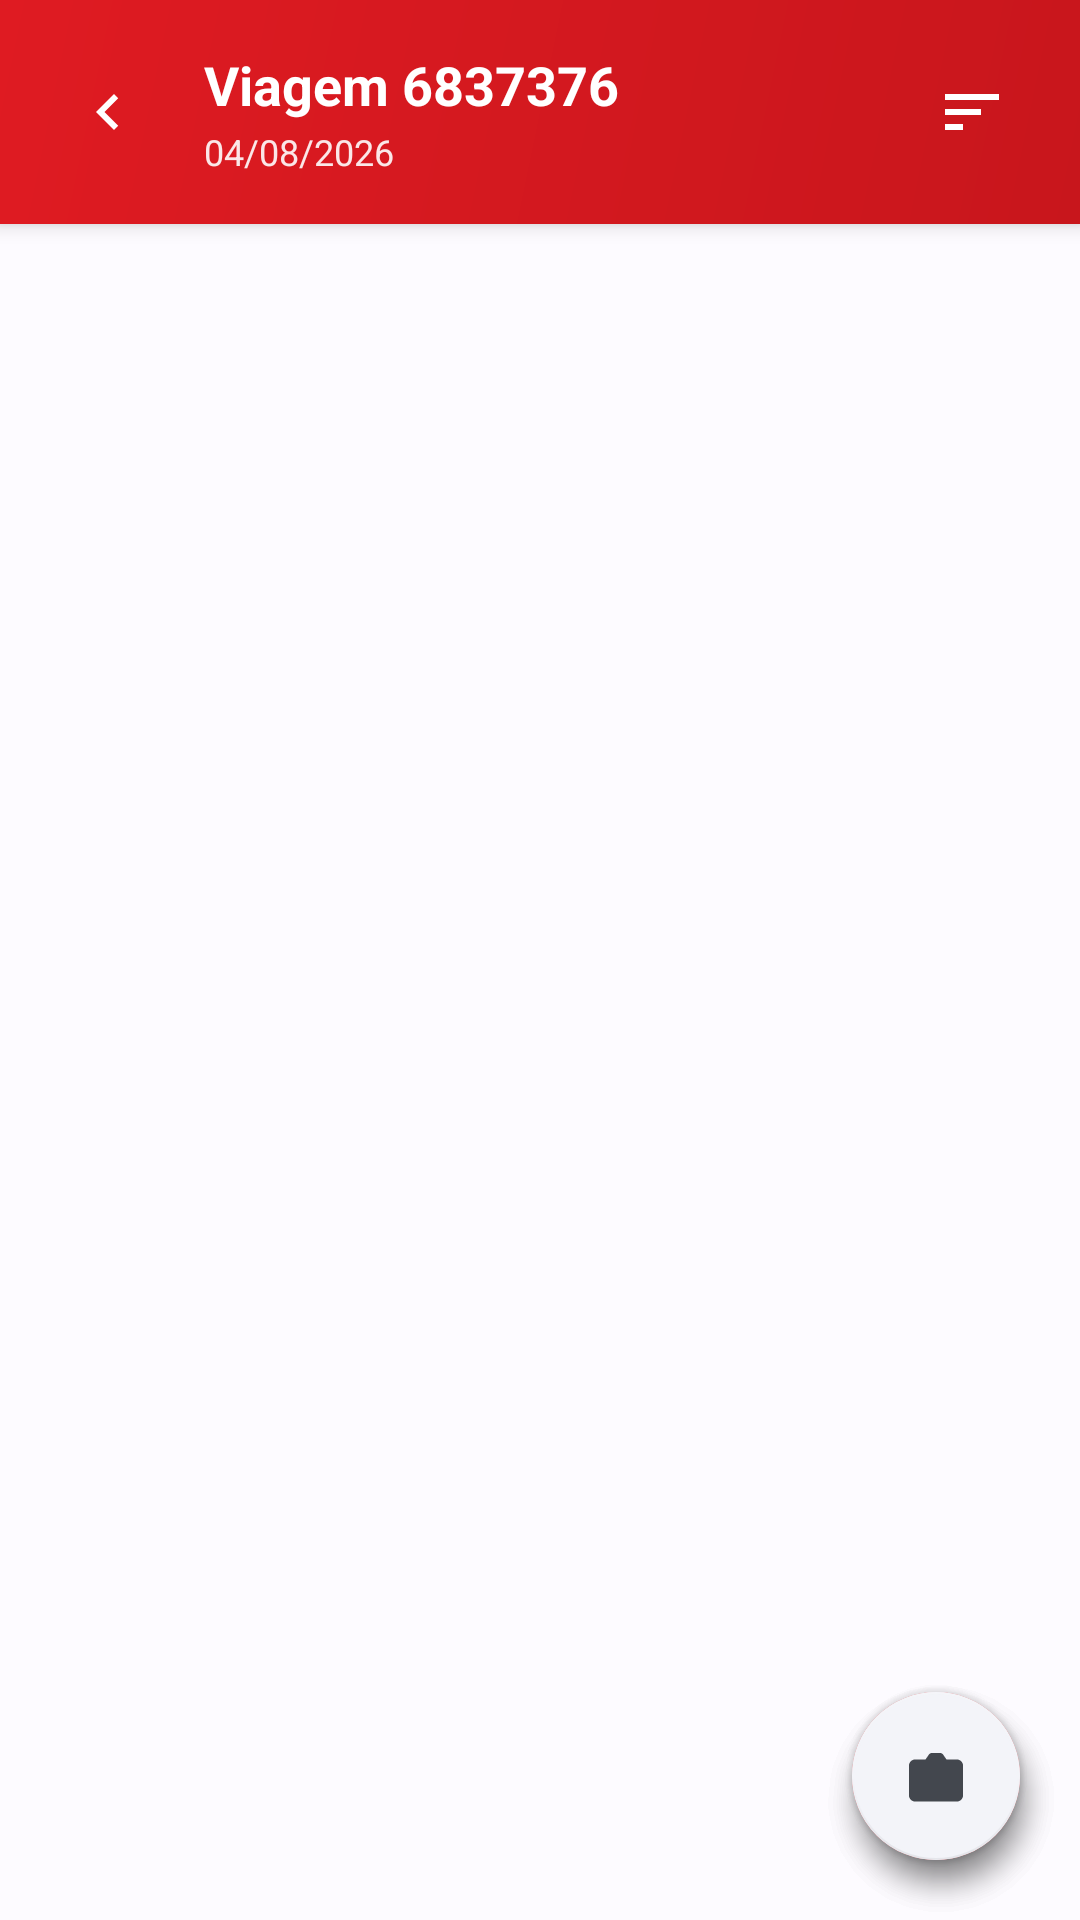

Icon bounding boxes for this 1080×1920 phone screenshot, format (x1, y1, x2, y2):
back: (96, 94, 118, 130)
sort: (945, 94, 999, 130)
